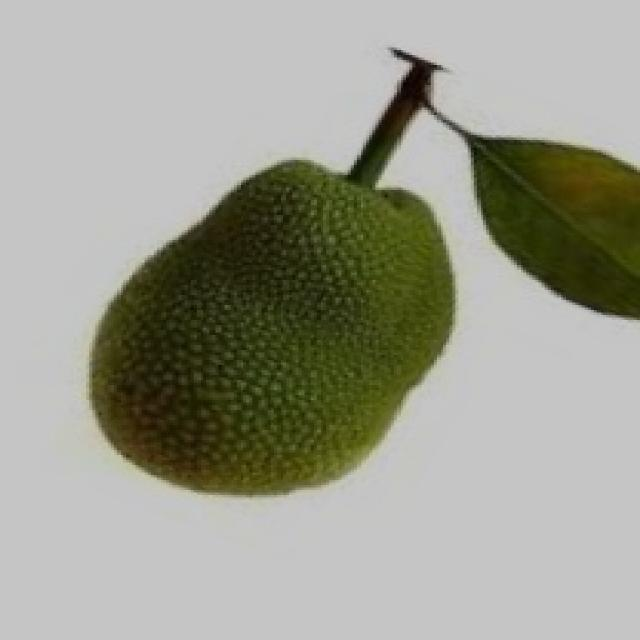Fruit: (65, 140, 486, 512)
